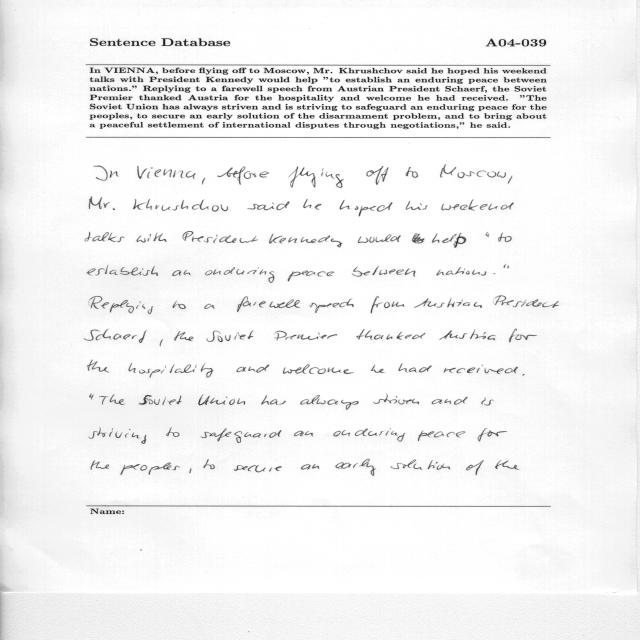word: (129, 363, 214, 378), (133, 199, 228, 212), (200, 428, 282, 443), (289, 166, 344, 188), (90, 296, 153, 314), (205, 267, 274, 283), (269, 234, 343, 248), (237, 296, 300, 312), (333, 428, 405, 442), (89, 427, 146, 444), (217, 167, 269, 185), (183, 231, 258, 243), (300, 395, 359, 410), (84, 329, 147, 343), (440, 165, 506, 178), (340, 200, 393, 216), (441, 200, 514, 211), (87, 265, 158, 276), (494, 296, 559, 308), (137, 166, 196, 179), (357, 329, 426, 340), (283, 364, 354, 374), (121, 463, 180, 475), (335, 459, 376, 476), (352, 266, 415, 277), (414, 298, 482, 308), (444, 365, 518, 374), (391, 459, 451, 470), (439, 329, 496, 340), (275, 331, 337, 341), (310, 299, 354, 313), (371, 296, 404, 313), (207, 331, 254, 342), (199, 395, 246, 406), (432, 233, 466, 248), (374, 394, 419, 405), (418, 431, 465, 441), (288, 271, 334, 281), (436, 267, 487, 276), (139, 395, 182, 405), (367, 166, 389, 185), (478, 428, 507, 442), (85, 232, 125, 242), (358, 234, 401, 243), (94, 165, 118, 181), (248, 202, 290, 211), (509, 329, 537, 342), (398, 363, 432, 373), (89, 197, 115, 210), (234, 465, 282, 472), (136, 233, 167, 243), (432, 397, 468, 405), (88, 360, 110, 373), (99, 394, 125, 405), (466, 460, 484, 475), (237, 365, 270, 373), (261, 395, 286, 405), (495, 461, 520, 470), (303, 199, 322, 210), (174, 331, 194, 341), (406, 201, 428, 210), (91, 460, 109, 470), (166, 427, 180, 437), (406, 167, 418, 178), (498, 233, 512, 242), (412, 233, 424, 243), (203, 459, 215, 469), (172, 270, 191, 276), (294, 431, 313, 437), (172, 301, 186, 309), (371, 365, 385, 373), (301, 464, 319, 470), (481, 398, 494, 406), (204, 304, 215, 309), (508, 176, 512, 184), (202, 178, 206, 185), (90, 394, 94, 400), (160, 340, 163, 347), (189, 468, 192, 474), (486, 232, 489, 237), (504, 265, 509, 268), (522, 374, 525, 376), (494, 273, 496, 274)
